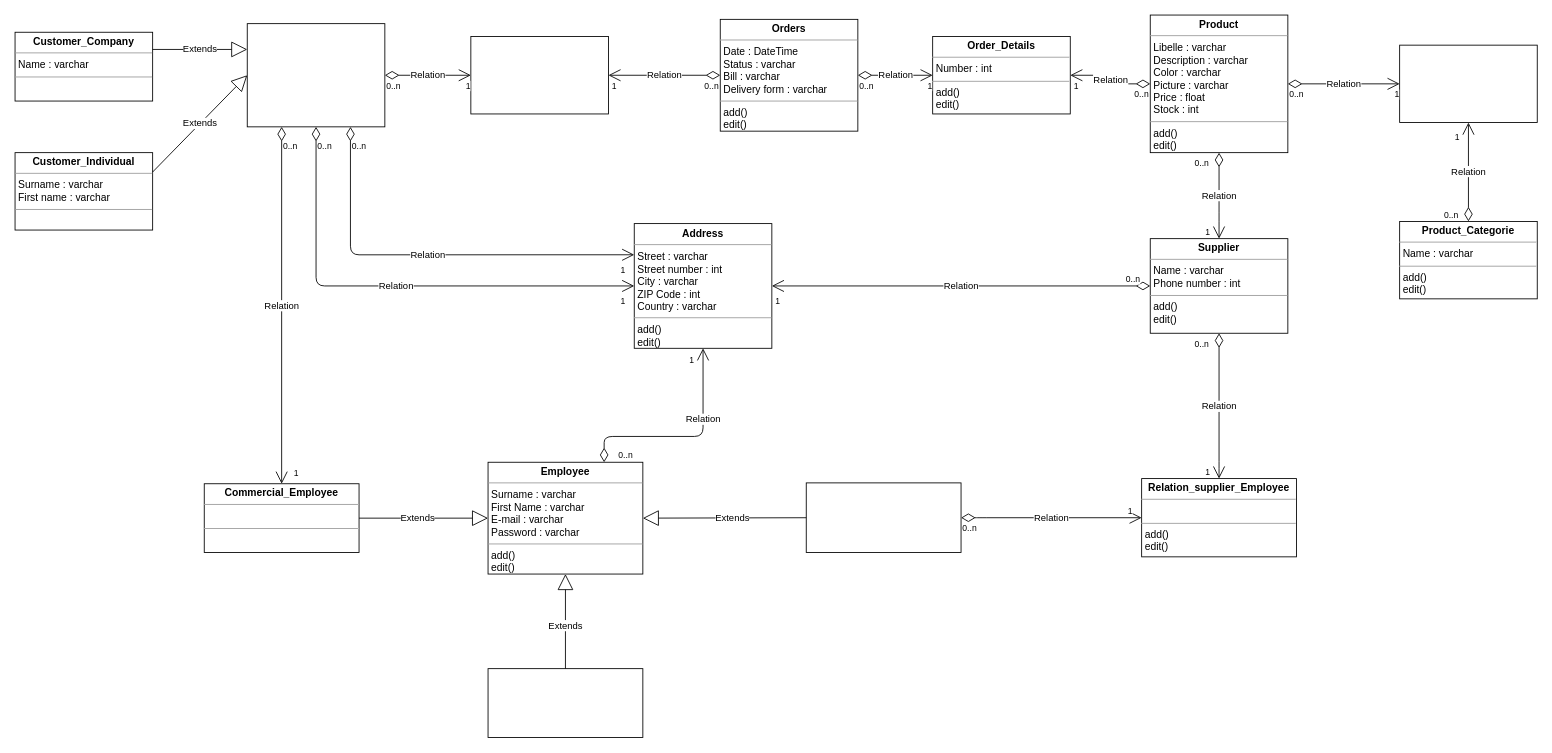
Image size: 1552x753. Some labels were removed from this diagram. The shapes that lost their labels are listed below. From the top down, each one's centre as x and y in pixels, then its label:
At [315,75]: "Customer Phone number : varchar e-mail : varchar Password : varchar add() edit()".
At [539,75]: "Order_Customer add() edit()".
At [1468,83]: "Sub_Categorie Name : varchar add() edit()".
At [883,517]: "Supplier_Employee".
At [565,702]: "Admin".
